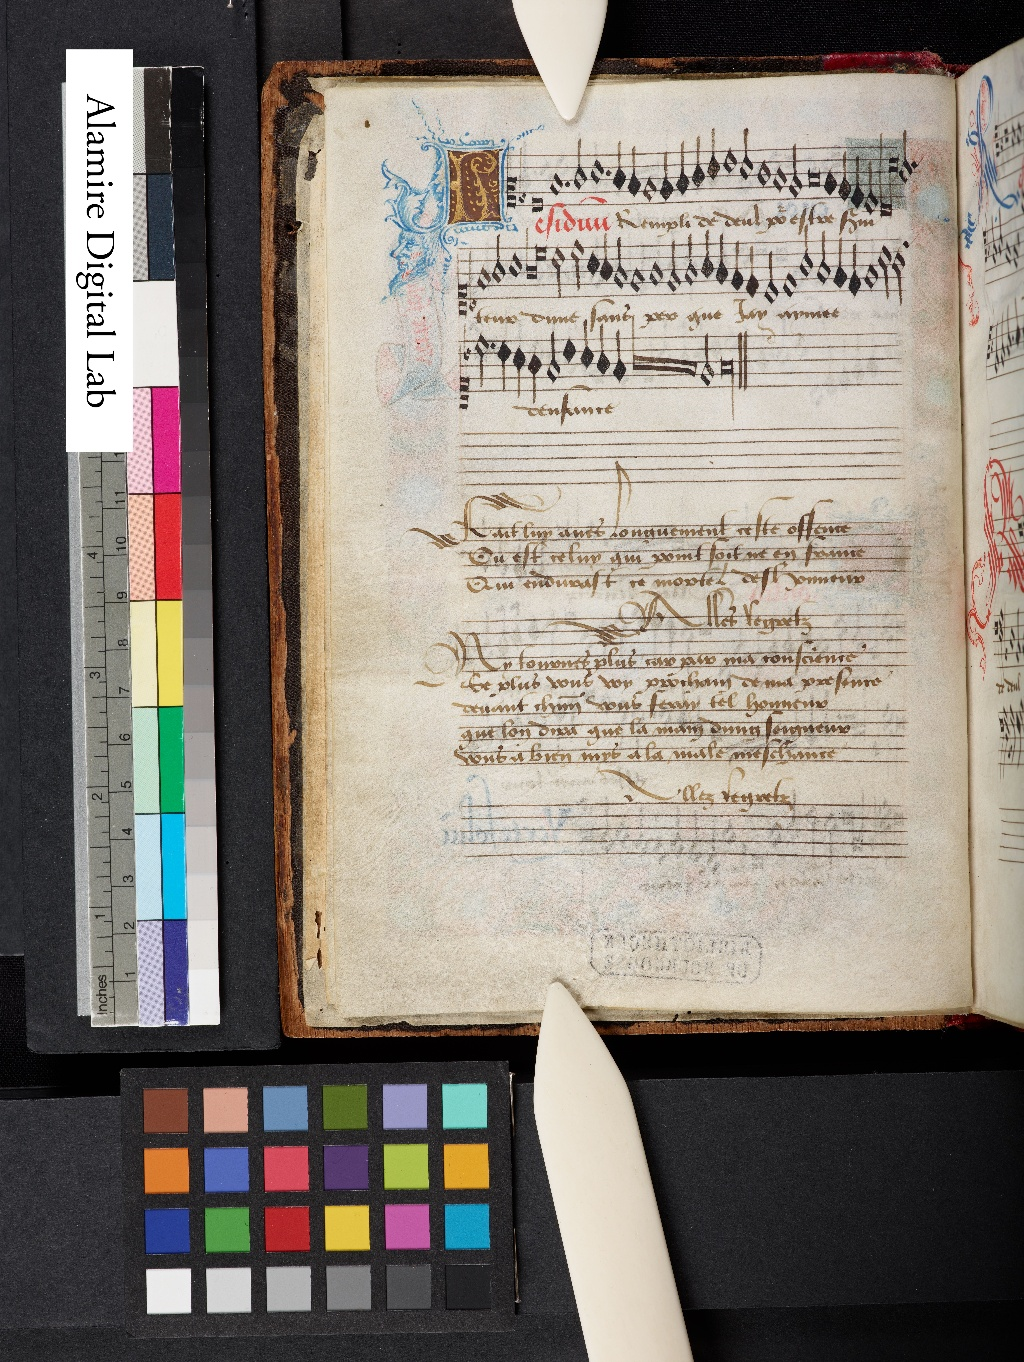c clef_11: (452, 270, 469, 317)
colored semibreve_6: (582, 244, 594, 263)
custos_4: (897, 229, 922, 257)
flat_12: (465, 282, 477, 314)
flat_8: (467, 247, 474, 290)
l1semibreve_7: (520, 225, 537, 287)
l2semibreve_4: (532, 240, 547, 275)
minim_11: (760, 245, 780, 310)
minim_4: (567, 235, 585, 297)
minim_5: (547, 240, 567, 302)
minim_6: (874, 237, 892, 304)
minim_7: (795, 223, 814, 285), (890, 247, 907, 310), (489, 229, 504, 290)
minim_8: (814, 225, 833, 290), (682, 227, 699, 290), (612, 232, 629, 295)
minim_9: (664, 235, 682, 299)
semibreve_10: (780, 263, 800, 306)
semibreve_6: (504, 245, 524, 285)
semibreve_8: (645, 252, 665, 292), (472, 263, 490, 297)
semibreve_9: (861, 257, 880, 297), (627, 260, 645, 300)
semiminim_10: (742, 237, 760, 302), (847, 235, 862, 304)
semiminim_7: (699, 225, 715, 287), (597, 225, 612, 287)
semiminim_8: (712, 227, 729, 292)
semiminim_9: (830, 227, 847, 295), (730, 235, 744, 299)
